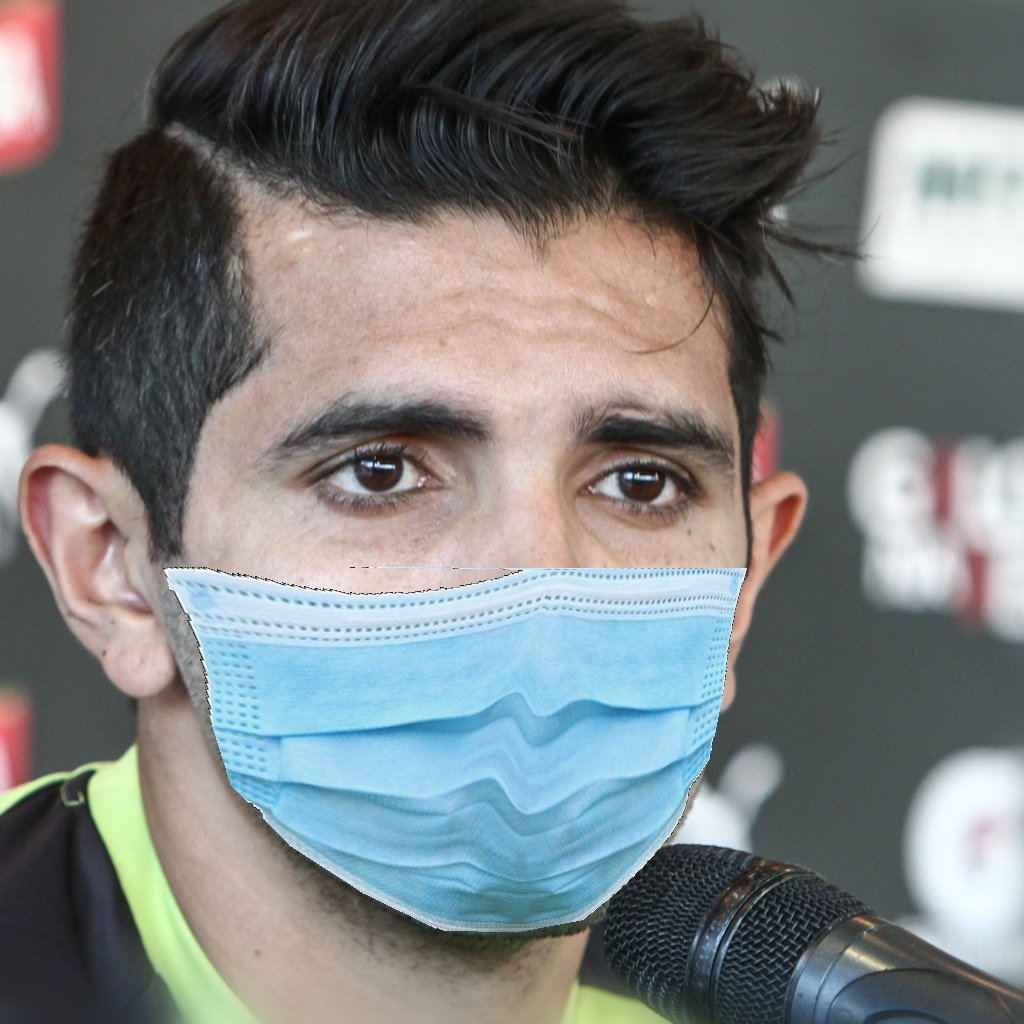Mask: (165, 337, 739, 931)
